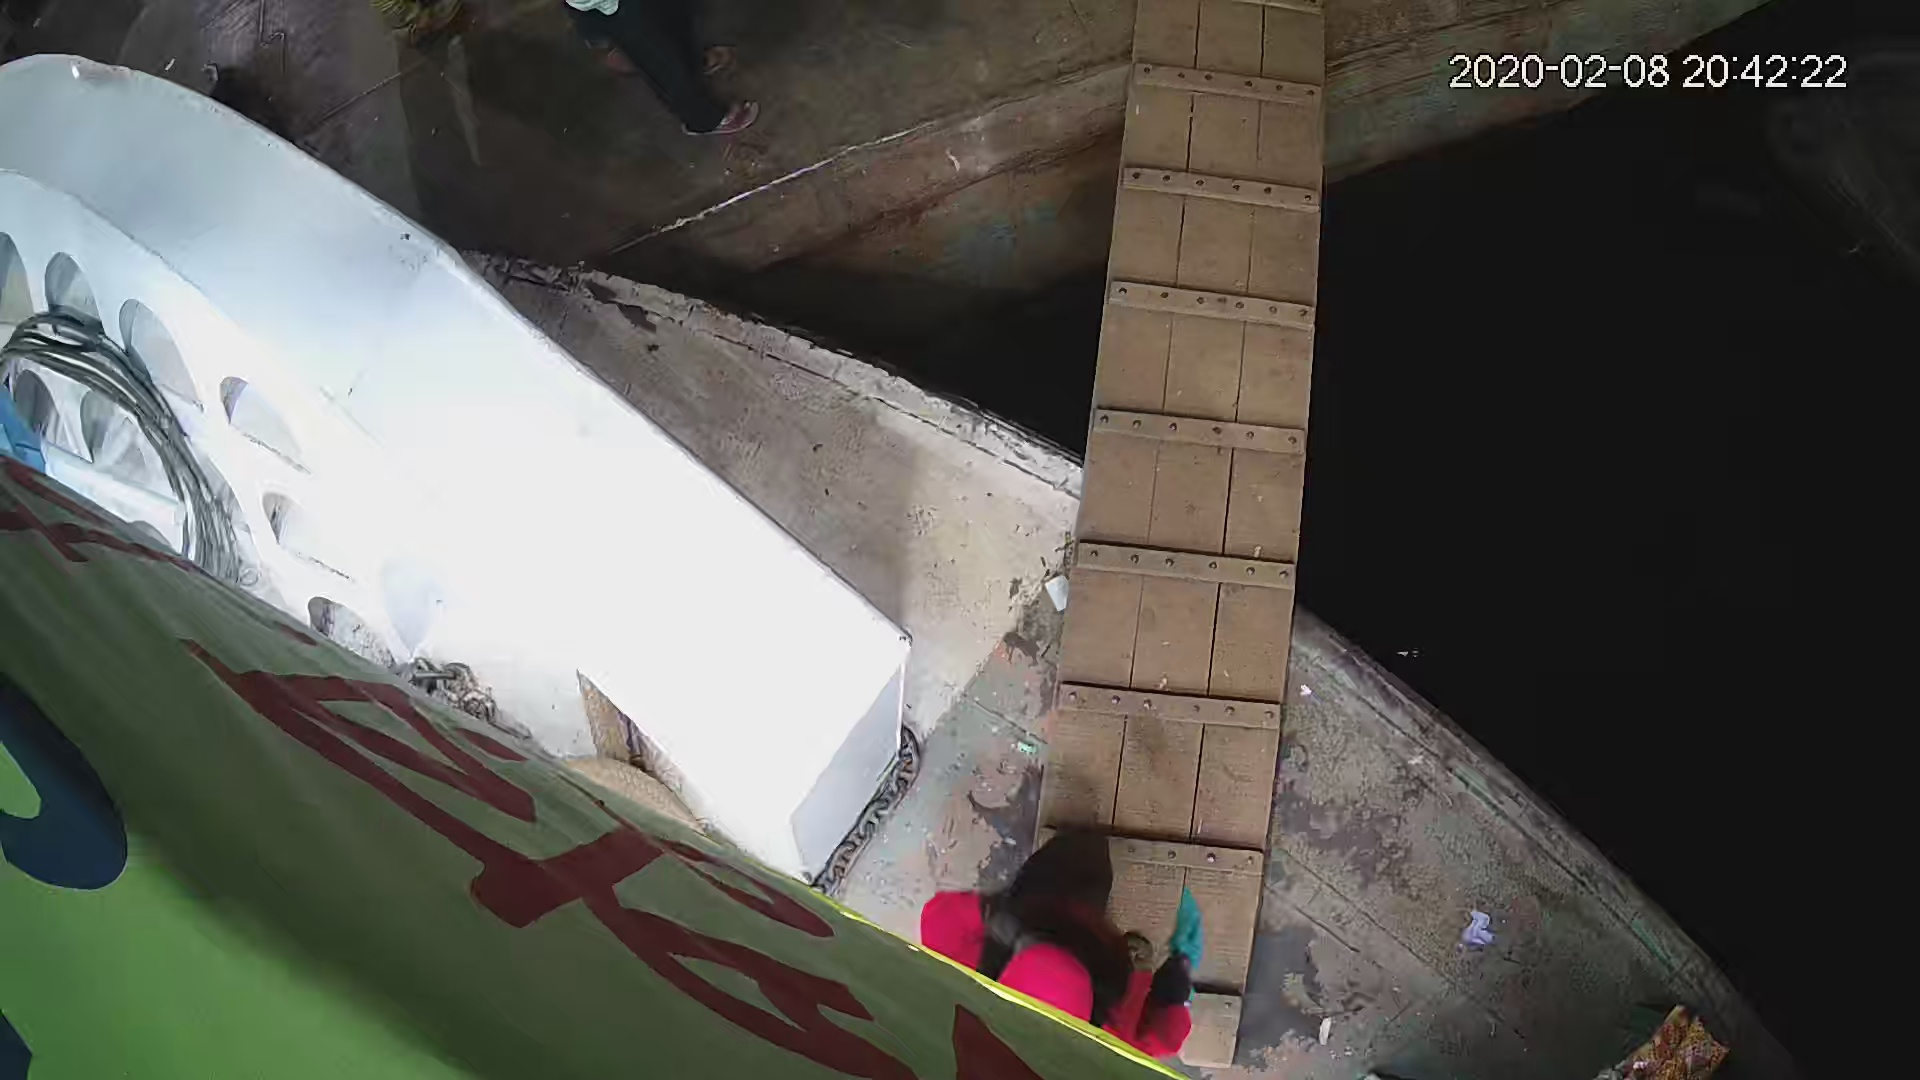person: (910, 818, 1229, 1063)
